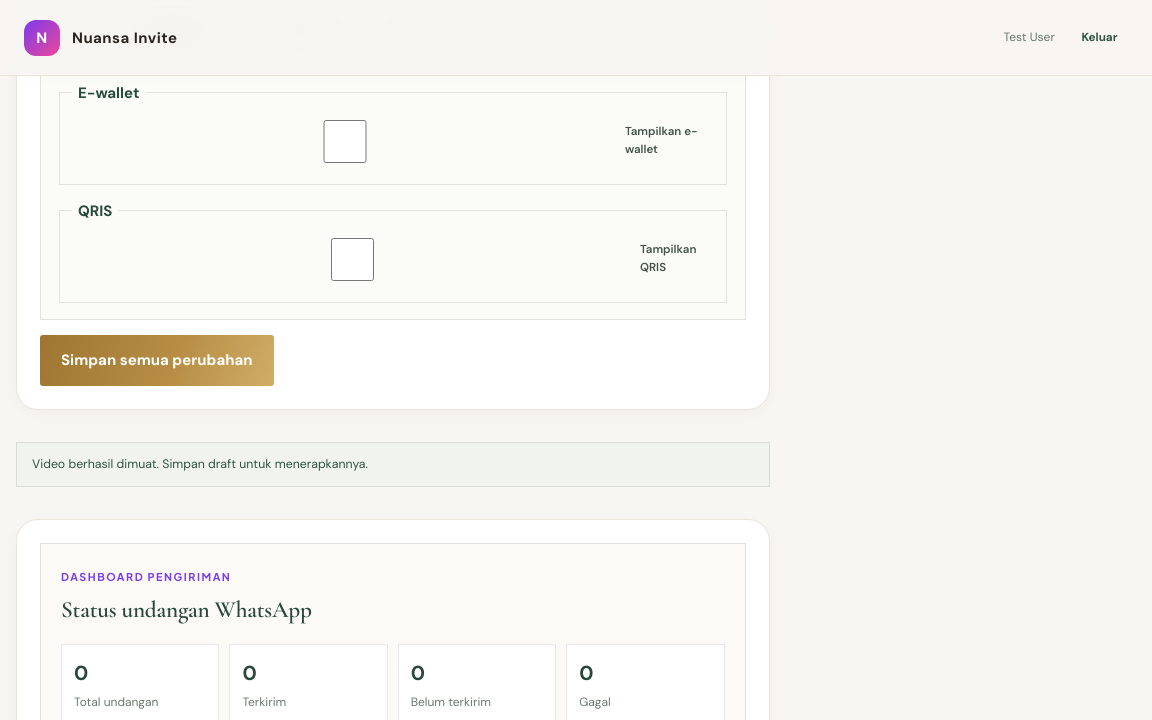
Scenario: owner can choose catalog music and upload a video file
Earlier steps of the test are not shown.
(page scrolled)
Expected: the text "Video berhasil dimuat. Simpan draft untuk menerapkannya." is shown, [16,442,770,487]
Click the button "Simpan semua perubahan".
click(157, 360)  # box [40,335,274,386]
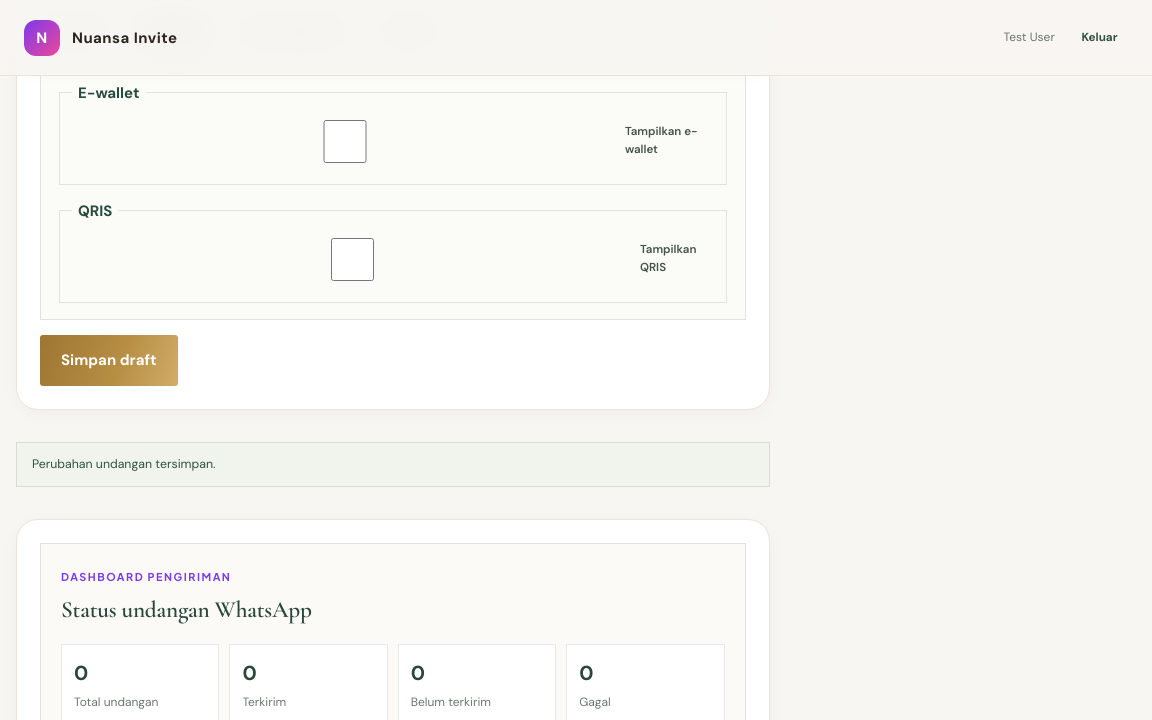
Expected: the text "Perubahan undangan tersimpan." is shown, [16,442,770,487]
